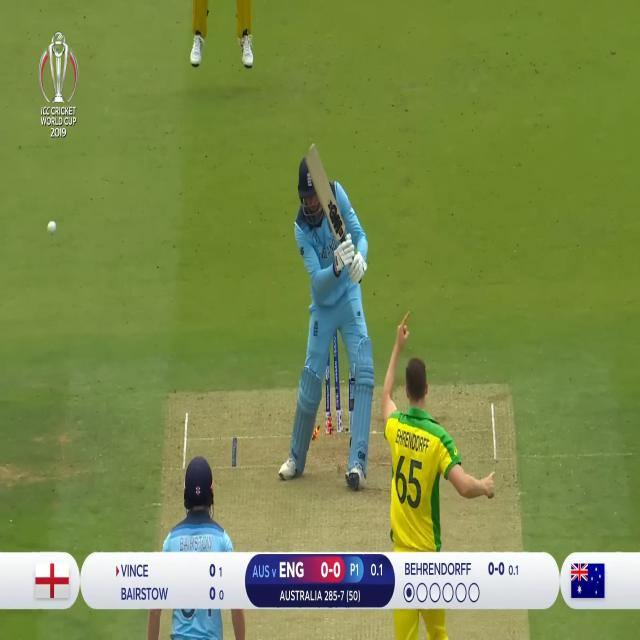ball: (41, 213, 63, 244)
